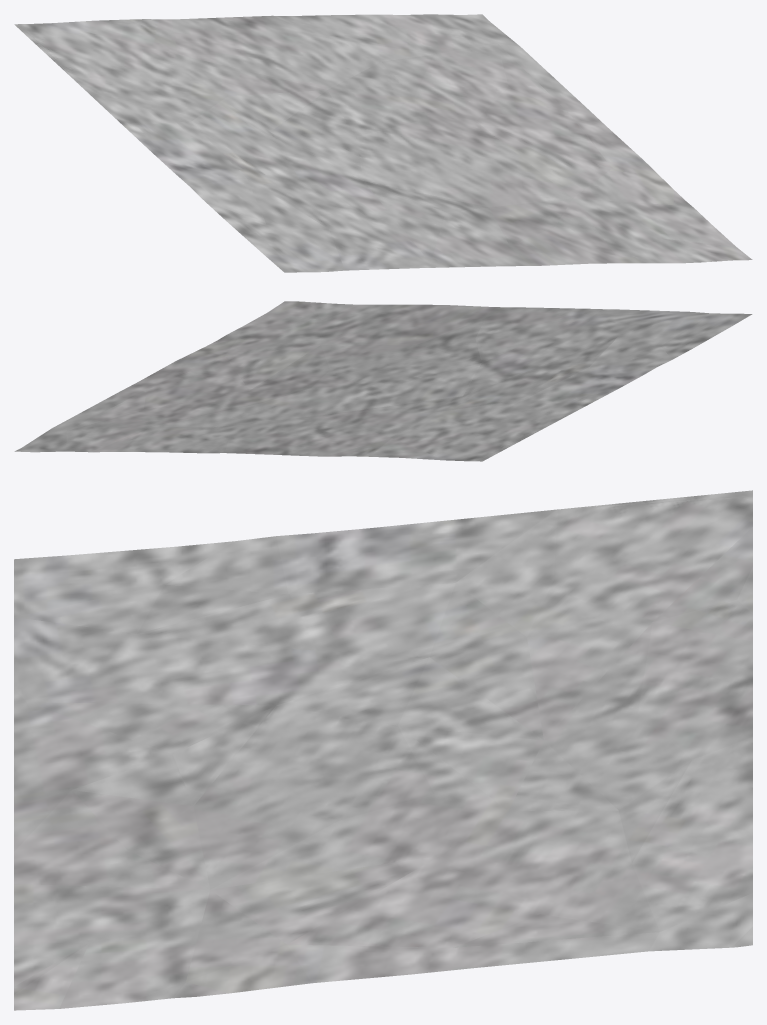
3 views of the same model, one above another, from view 1: azimuth 30°, elevation 25°; view 2: azimuth 150°, elevation 25°; view 3: azimuth 270°, elevation 25° (orthographic). The views are drawn at different scales.
Bounding box in the file's own units: 0.8373 × 0.2599 × 0.8374.
Materials: 3 (3 with a texture image).
